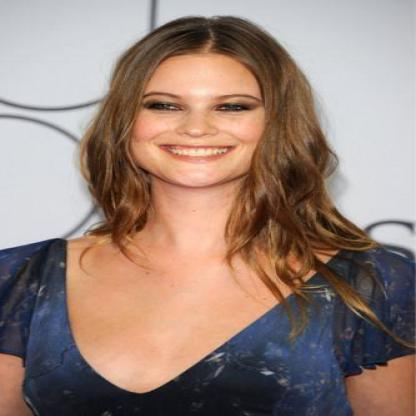long-hair: (52, 188, 362, 238)
